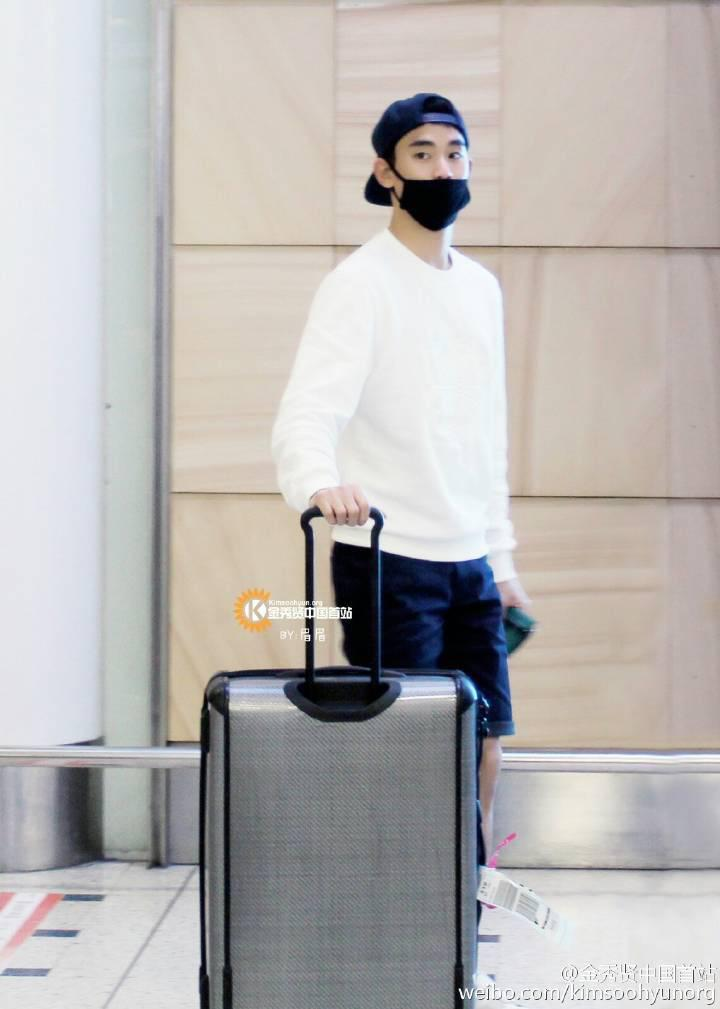WRONG: (396, 134, 470, 229)
